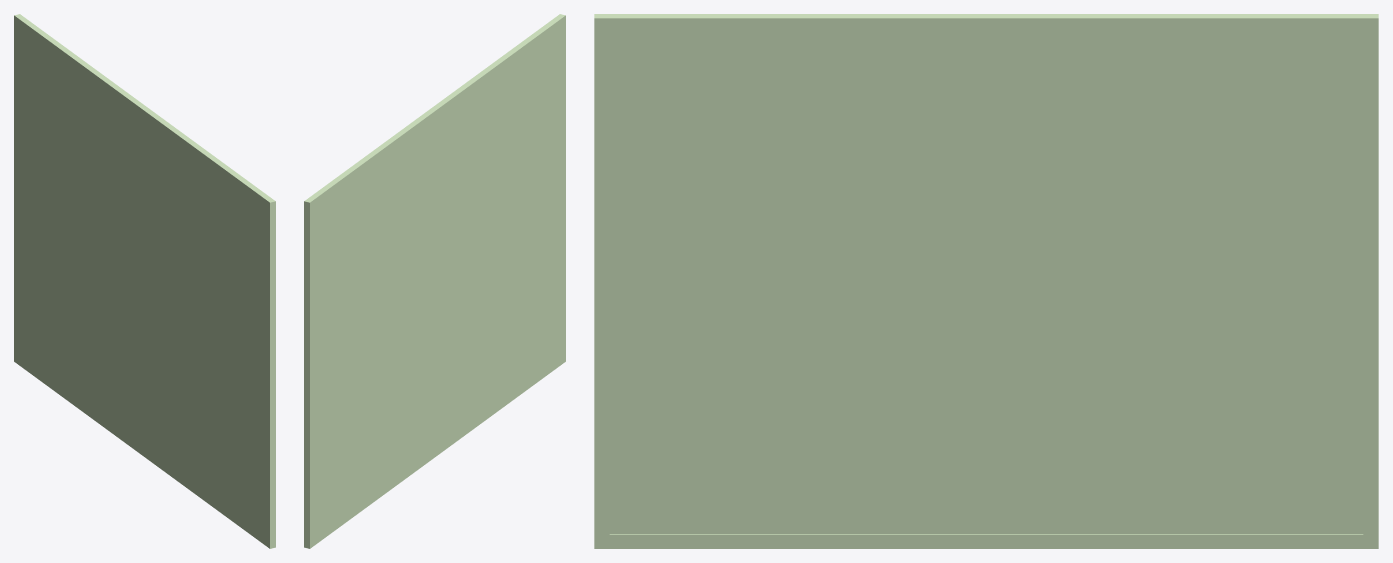
The model's file is SM_Picture.fbx.
The picture shows the model from 3 angles, left to right: view 1: azimuth 30°, elevation 25°; view 2: azimuth 150°, elevation 25°; view 3: azimuth 270°, elevation 25°; orthographic projection. The views are drawn at different scales.
Parts seen in each view (by area): view 1: Picture; view 2: Picture; view 3: Picture.
Boxes of the visible parts, <box> form: Picture: <box>14,14,275,548</box>; Picture: <box>304,14,565,548</box>; Picture: <box>594,14,1378,548</box>.
Size of the model in its own units: 1.34 by 76.45 by 102.
